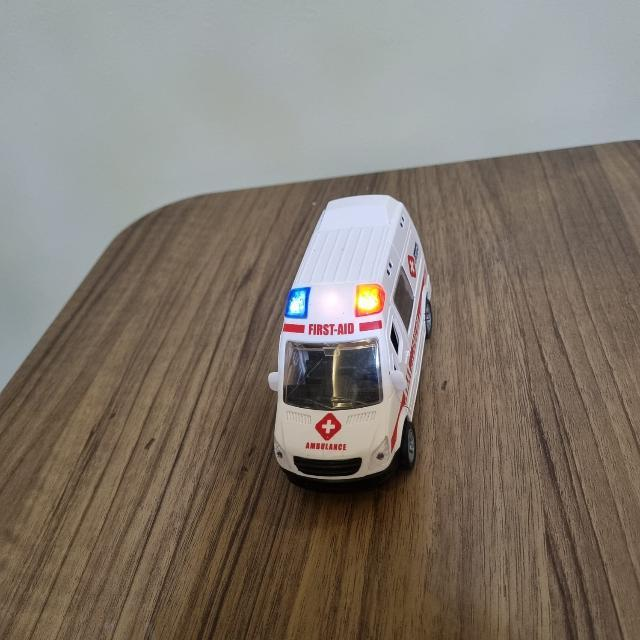emergency-vehicle: (268, 193, 434, 485)
